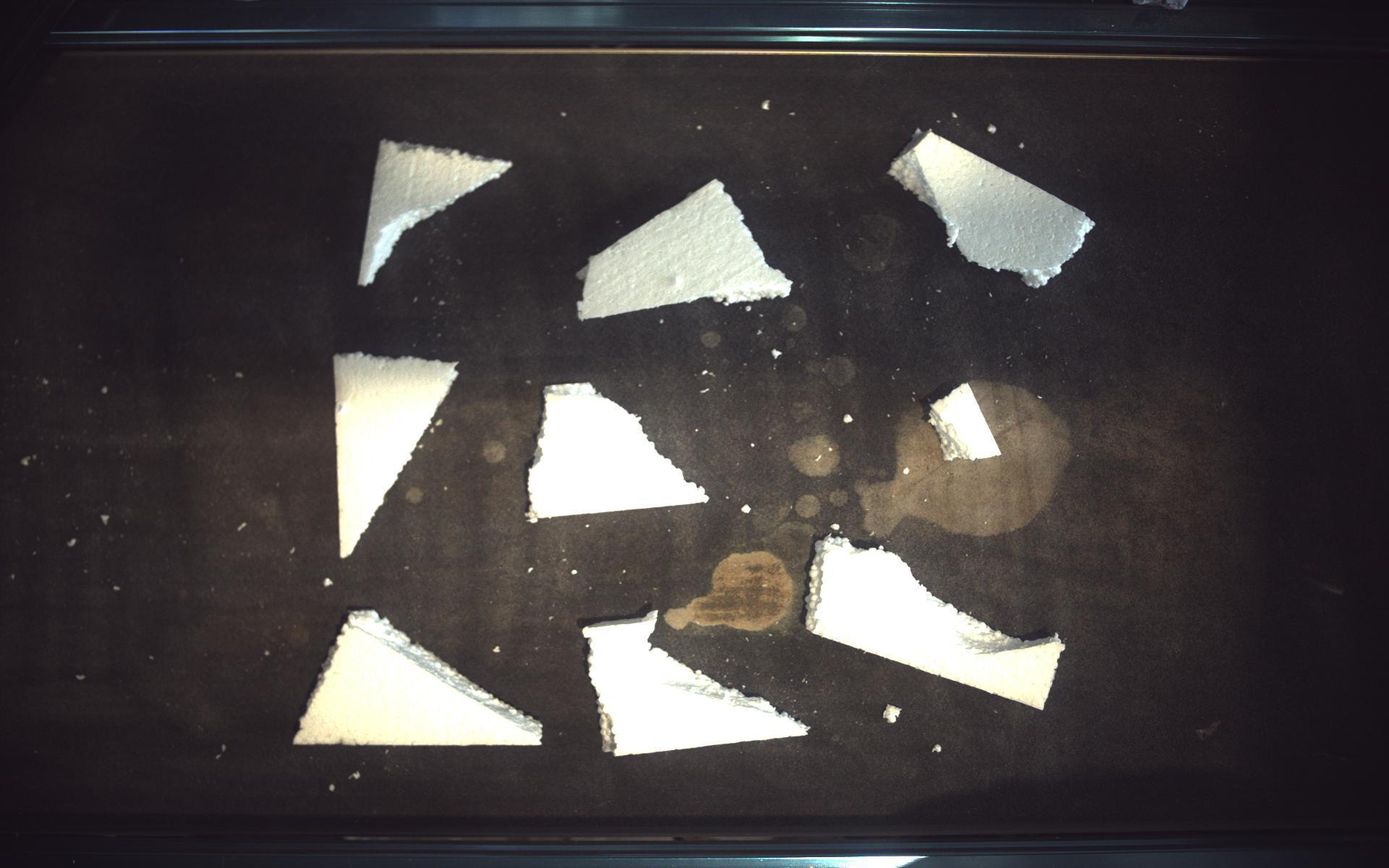foam: (807, 537, 1067, 710), (293, 610, 543, 746), (583, 611, 810, 757), (890, 129, 1097, 287), (578, 179, 793, 319), (528, 383, 710, 523), (334, 352, 457, 558), (358, 139, 512, 285), (930, 383, 1003, 461)
